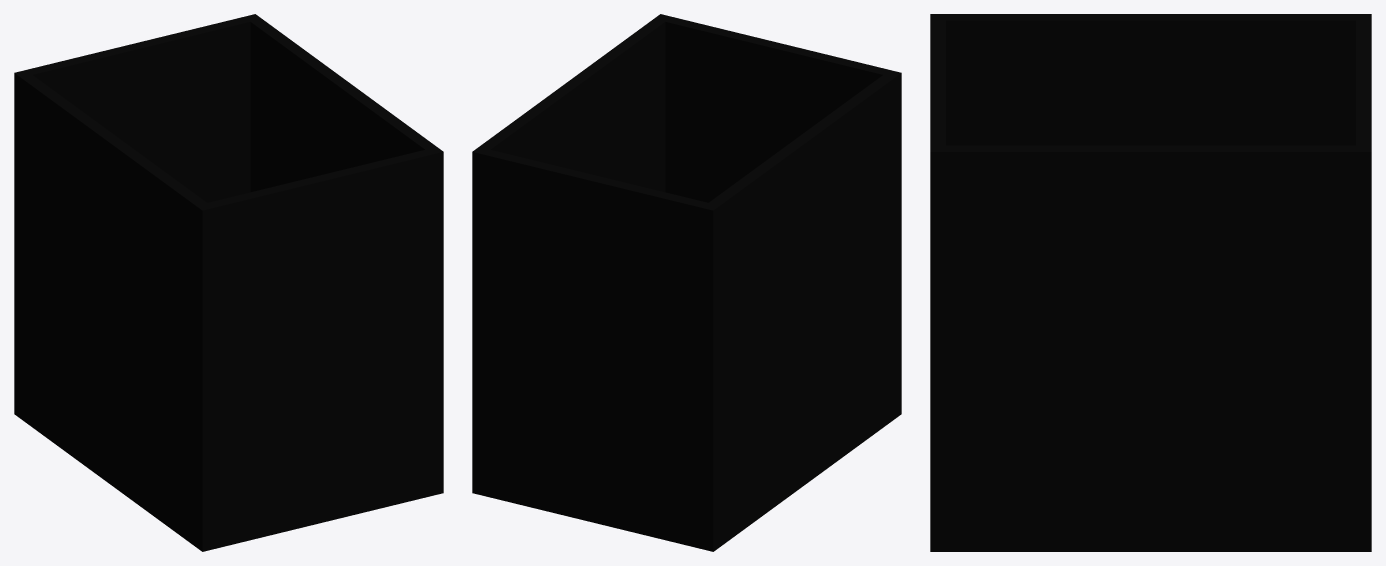
3 renders of one model, left to right at view 1: azimuth 30°, elevation 25°; view 2: azimuth 150°, elevation 25°; view 3: azimuth 270°, elevation 25°, orthographic. The views are drawn at different scales.
Parts seen in each view (by area): view 1: Box_412x557x557; view 2: Box_412x557x557; view 3: Box_412x557x557.
Part boxes in pixels (x1,y1,x2,y2): Box_412x557x557: [14, 14, 443, 551]; Box_412x557x557: [472, 14, 901, 551]; Box_412x557x557: [930, 14, 1371, 551].
Bounding box in the file's own units: 0.412 × 0.557 × 0.557.
Materials: 1 (1 with a texture image).
